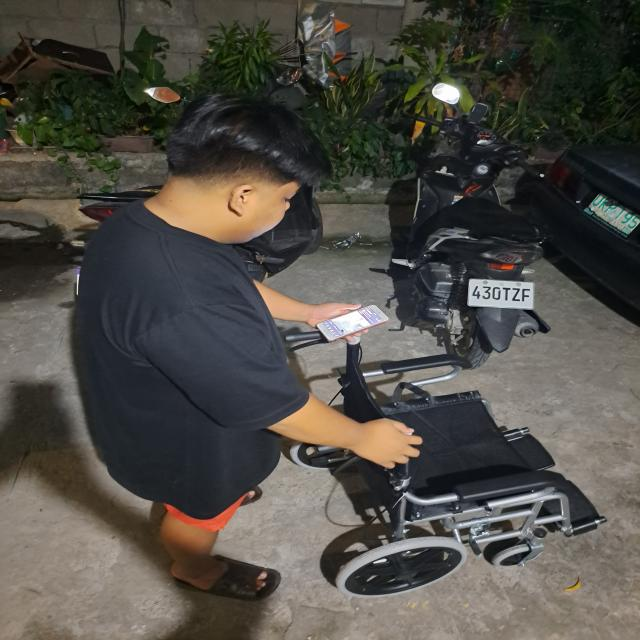wheelchairs: (294, 326, 616, 598)
